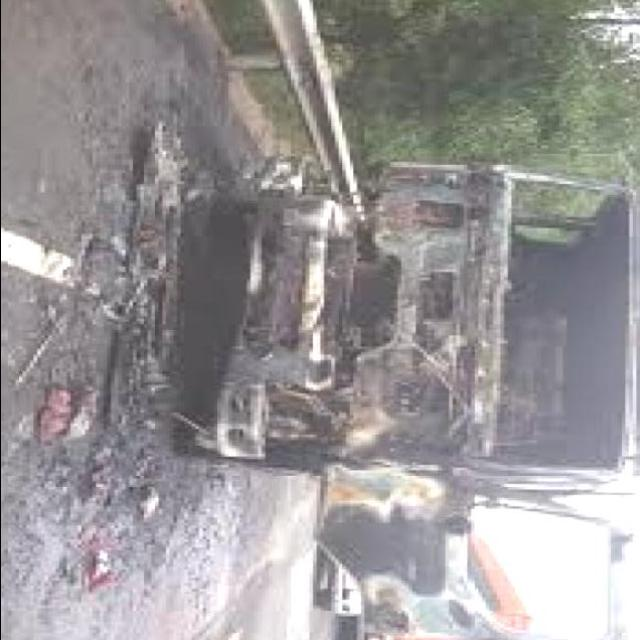accident: (163, 160, 640, 536)
